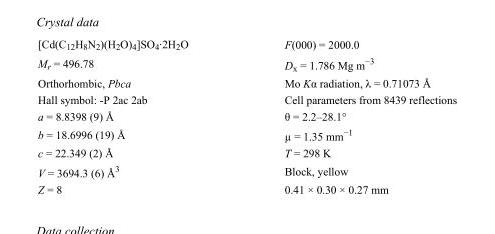table: (37, 37, 456, 195)
table column: (235, 37, 456, 195), (37, 37, 235, 195)
table row: (37, 53, 456, 74), (37, 124, 456, 144), (37, 160, 456, 180), (37, 90, 456, 107), (37, 107, 456, 124), (37, 37, 456, 53), (37, 74, 456, 90), (37, 144, 456, 160), (37, 180, 456, 195)
